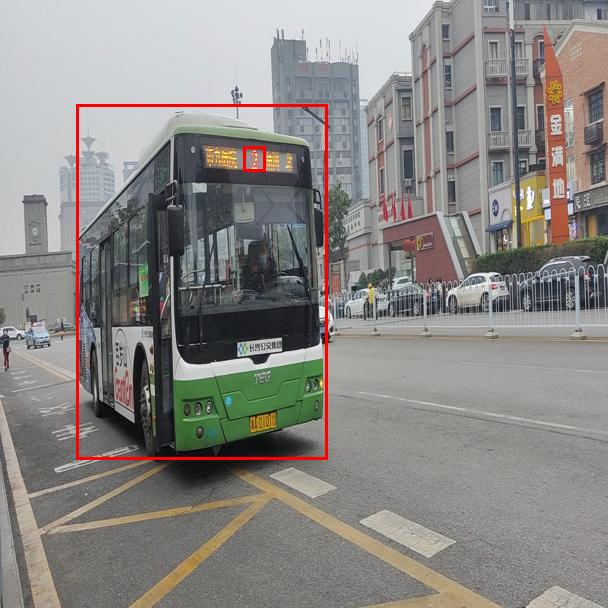bus: (76, 104, 327, 459)
screen: (243, 146, 265, 171)
